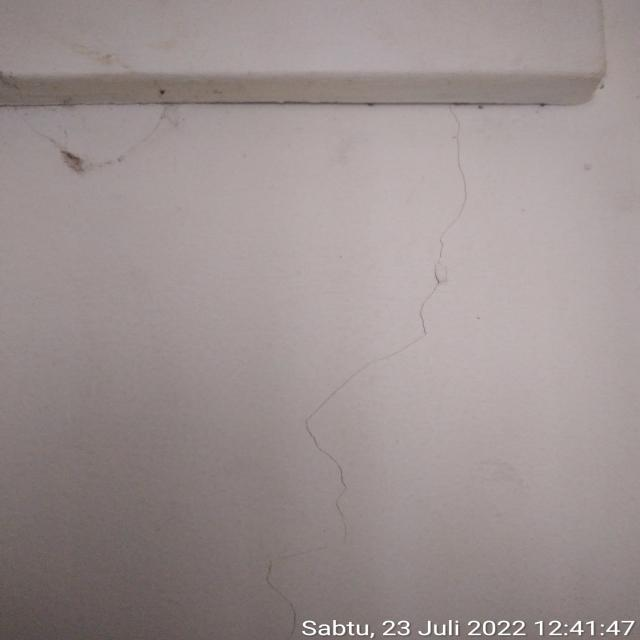Crack: (288, 366, 376, 463), (258, 536, 306, 640), (384, 289, 435, 386), (423, 104, 475, 193), (419, 202, 462, 289), (328, 468, 359, 532)
